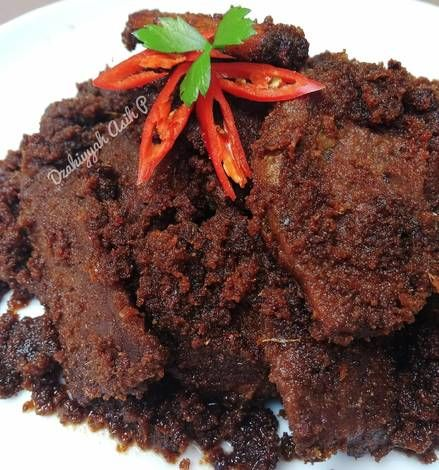rendang: (3, 10, 439, 464)
